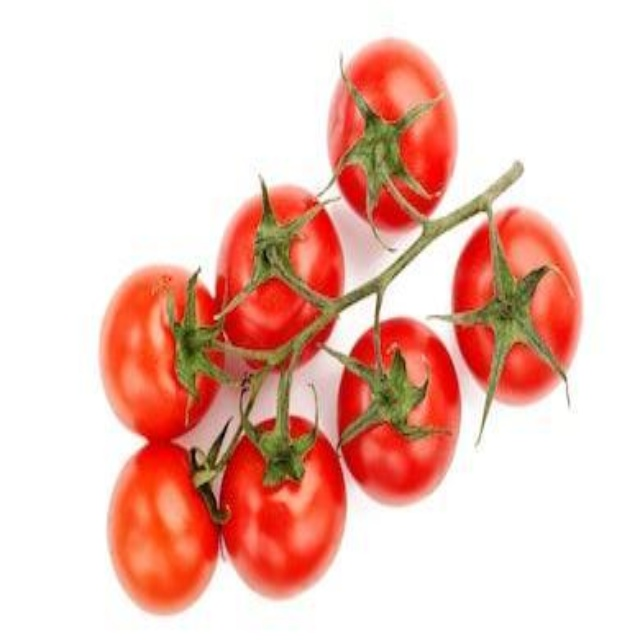tomato: (433, 225, 596, 415), (307, 35, 451, 240), (213, 417, 356, 603), (212, 195, 342, 370), (338, 323, 464, 499), (91, 285, 231, 431), (116, 461, 222, 620)
